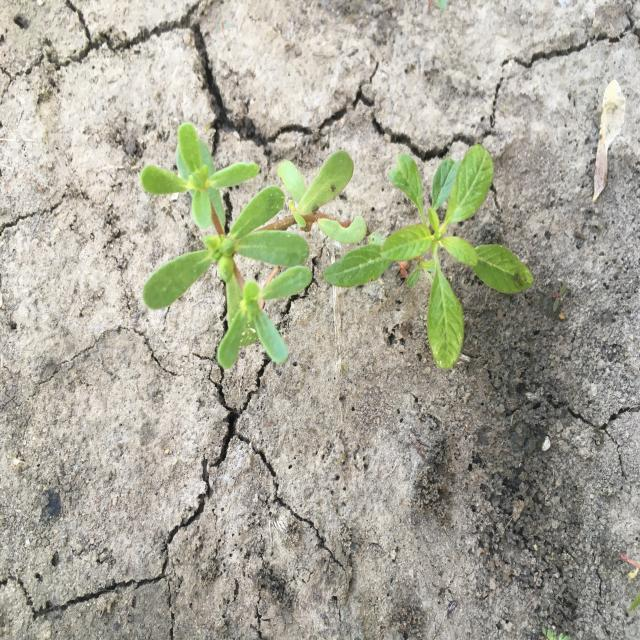Purslane: (140, 121, 368, 371)
Waterhemp: (322, 143, 535, 371)
